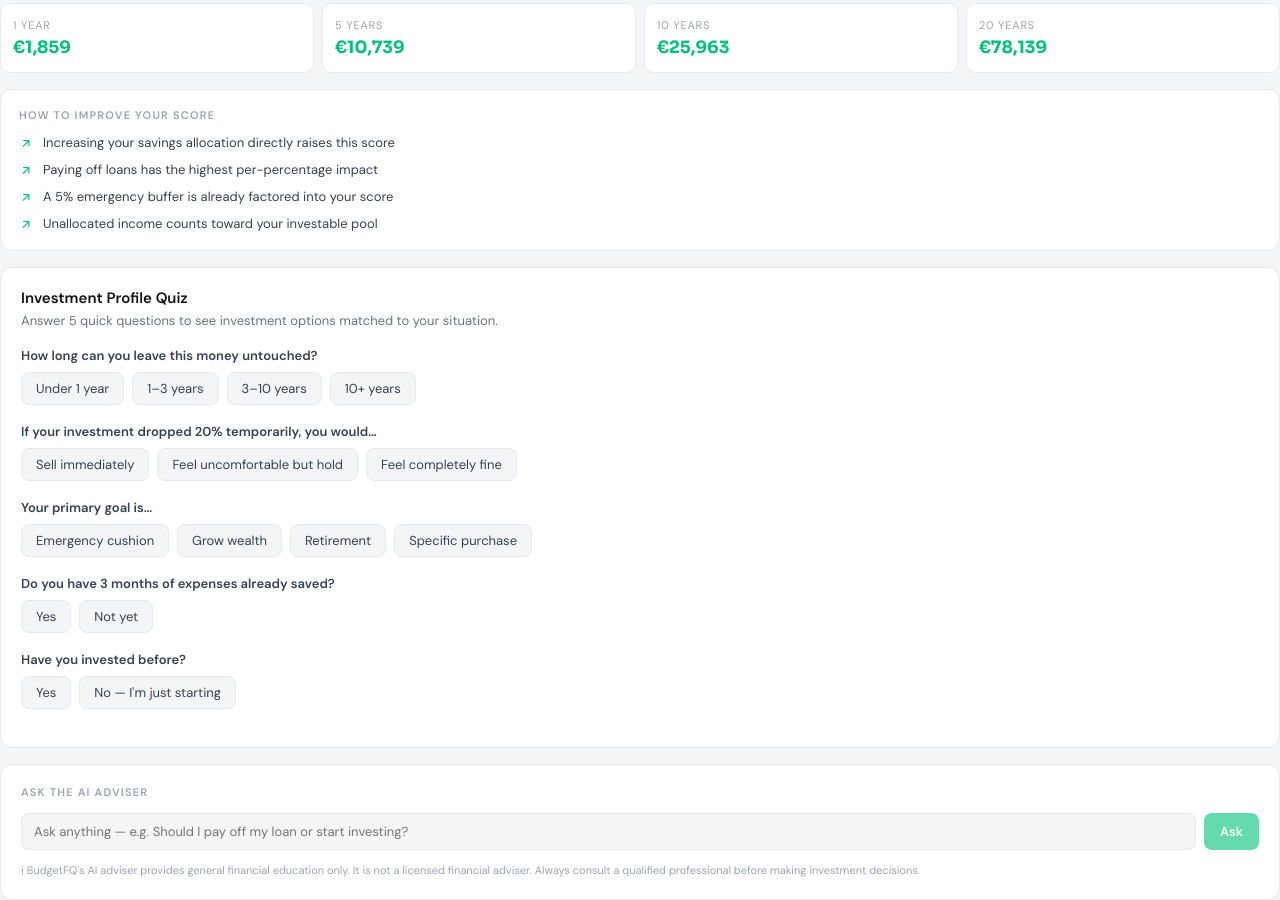
Test case: InvestScore — AI explainer › Ask button is enabled when input has text
(page scrolled)
Type "What is an index fund?" into the field with placeholder "Ask anything" at x=608, y=832, box [21,813,1196,850]
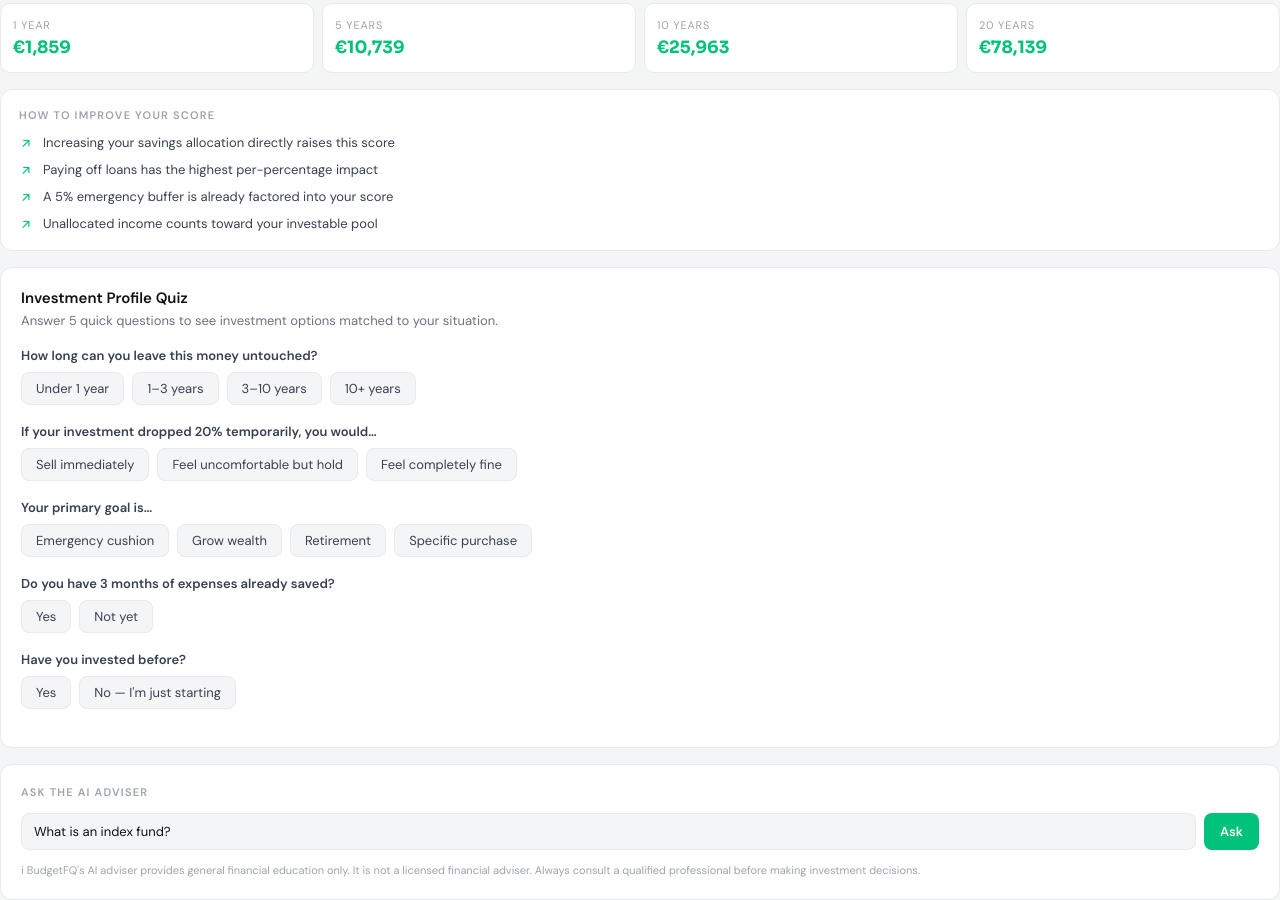
Expected: the button "Ask" is enabled, [1204,813,1259,850]
